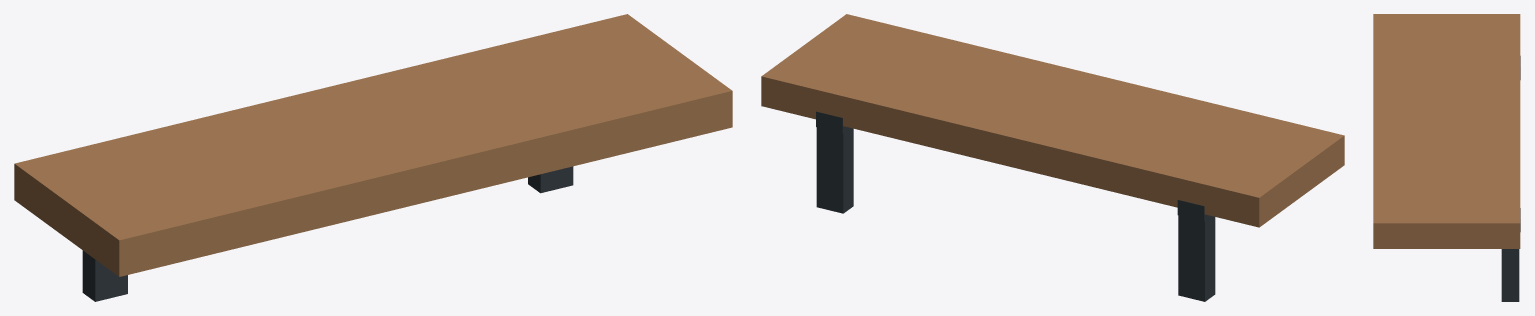
The model's file is floating_shelf.glb.
3 renders of one model, left to right at view 1: azimuth 30°, elevation 25°; view 2: azimuth 150°, elevation 25°; view 3: azimuth 270°, elevation 25°, orthographic. The views are drawn at different scales.
Visible parts, largest first — view 1: Shelf board, Wall support, Wall support.001; view 2: Shelf board, Wall support.001, Wall support, Horizontal support, Horizontal support.001; view 3: Shelf board, Wall support.001.
Part boxes in pixels (<box>): Shelf board: <box>14,14,732,276</box>; Wall support: <box>82,250,127,301</box>; Wall support.001: <box>528,166,573,193</box>; Shelf board: <box>761,14,1344,227</box>; Wall support.001: <box>816,126,853,213</box>; Wall support: <box>1178,215,1215,301</box>; Horizontal support: <box>1177,200,1211,221</box>; Horizontal support.001: <box>816,111,843,133</box>; Shelf board: <box>1373,14,1520,248</box>; Wall support.001: <box>1501,249,1519,301</box>.
Bounding box in the file's own units: 0.84 × 0.19 × 0.2495.
